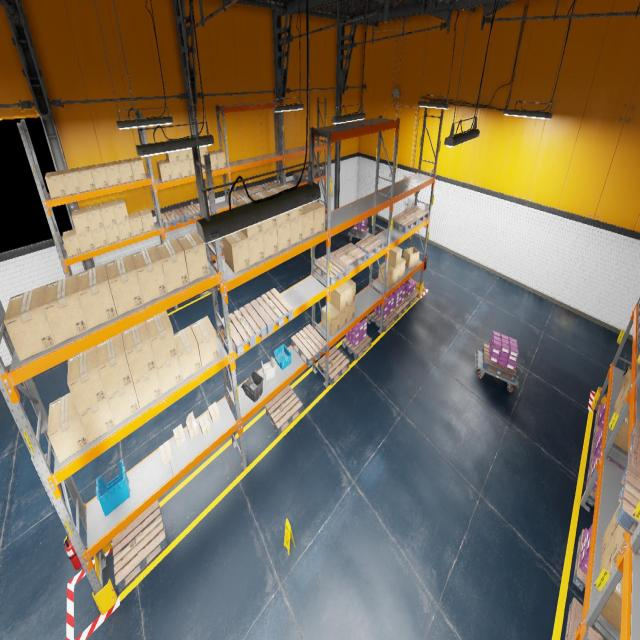box: (3, 285, 56, 361), (42, 274, 88, 344), (47, 392, 89, 463), (67, 346, 107, 414), (77, 264, 117, 329), (105, 254, 144, 316), (96, 332, 132, 397), (122, 321, 156, 381), (132, 246, 167, 303), (145, 310, 178, 367), (155, 238, 189, 293), (598, 560, 623, 634), (79, 398, 116, 443), (177, 231, 209, 282), (107, 380, 140, 425), (190, 316, 219, 367), (174, 326, 201, 380), (133, 367, 162, 409), (235, 195, 263, 238), (222, 231, 250, 273), (250, 191, 277, 232), (612, 524, 640, 562), (156, 355, 182, 393), (265, 187, 290, 225), (278, 182, 302, 220), (614, 408, 630, 453), (601, 512, 615, 556), (321, 303, 340, 335), (306, 201, 324, 234), (248, 232, 265, 266), (45, 171, 66, 198), (62, 228, 82, 256), (600, 535, 614, 574), (61, 168, 81, 195), (330, 284, 348, 312), (85, 204, 104, 230), (76, 166, 95, 192), (72, 207, 90, 234), (263, 226, 278, 258), (90, 164, 109, 188), (99, 201, 117, 226), (104, 161, 122, 186), (277, 220, 291, 252), (116, 159, 134, 183), (378, 262, 395, 287), (128, 157, 146, 180), (302, 205, 314, 239), (128, 211, 144, 236), (112, 198, 128, 223), (77, 231, 95, 253), (290, 216, 303, 245), (385, 246, 402, 268), (91, 226, 108, 248), (138, 209, 154, 232), (403, 246, 419, 268), (156, 160, 172, 182), (104, 224, 121, 244), (343, 279, 356, 305), (614, 384, 626, 412), (622, 376, 631, 412), (186, 411, 198, 438), (385, 262, 400, 283), (160, 440, 172, 465), (117, 220, 132, 240), (173, 424, 186, 447), (620, 365, 632, 388), (199, 414, 211, 437), (615, 396, 629, 414), (208, 402, 220, 423), (213, 150, 226, 168), (338, 306, 348, 329), (614, 502, 621, 534), (170, 161, 182, 179), (207, 151, 218, 170), (180, 158, 191, 176), (190, 157, 200, 175), (347, 300, 355, 322), (166, 151, 179, 162), (178, 149, 189, 161), (400, 258, 406, 278), (188, 149, 198, 158), (200, 146, 208, 156), (201, 156, 205, 172)
pallets: (112, 500, 167, 592), (222, 303, 267, 355), (250, 288, 293, 334), (266, 385, 302, 435), (616, 464, 640, 535), (564, 598, 604, 640), (291, 324, 327, 367), (482, 344, 516, 382), (318, 346, 350, 385), (315, 252, 349, 286), (332, 243, 366, 271), (573, 530, 586, 592), (342, 334, 372, 360), (355, 234, 384, 259), (626, 420, 640, 470), (370, 311, 398, 331), (392, 212, 418, 233), (403, 205, 429, 225), (161, 208, 185, 228), (586, 461, 596, 506), (179, 203, 201, 222), (393, 299, 409, 319), (593, 407, 603, 437), (227, 189, 247, 204), (404, 289, 420, 307), (583, 626, 603, 640), (589, 432, 597, 466), (242, 185, 264, 195), (351, 226, 369, 238), (200, 285, 219, 296), (306, 167, 324, 177), (293, 170, 308, 181), (213, 238, 223, 254), (261, 182, 280, 190), (637, 319, 640, 348), (210, 242, 215, 256), (638, 300, 640, 323)
